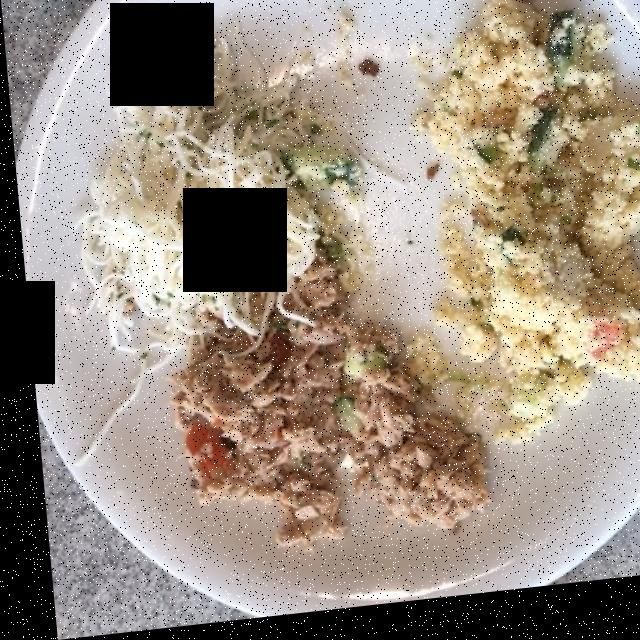celeriac: (76, 55, 315, 350)
taboule-prepared-with-couscous: (418, 2, 640, 447)
tuna-in-oil-drained: (170, 294, 473, 536)
